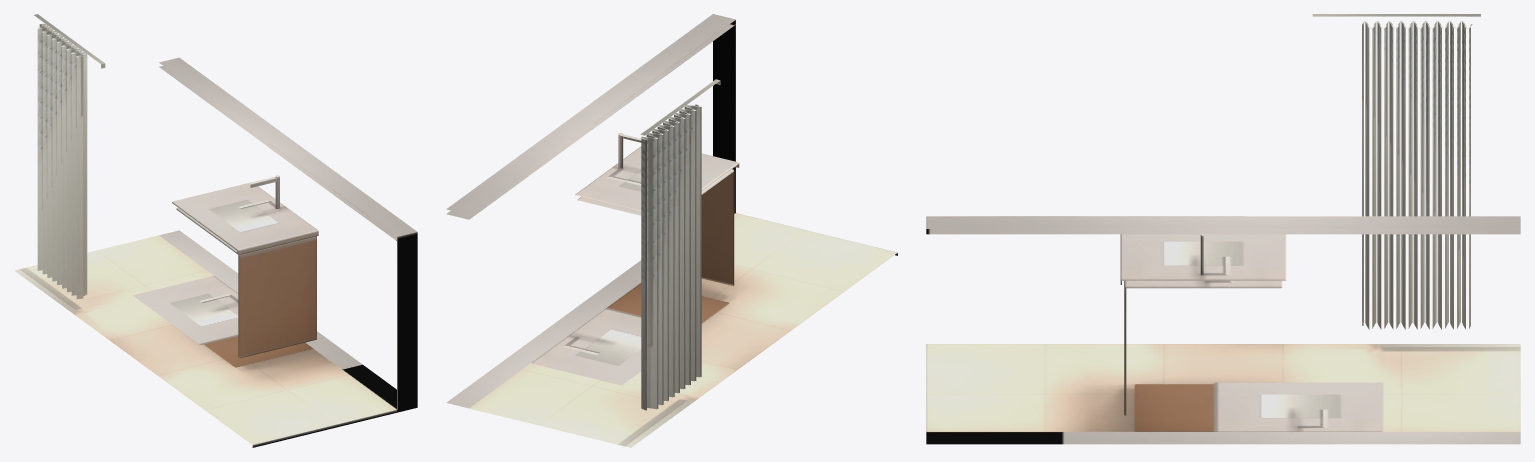
File: side-right.glb
3 views of the same model, side by side, from view 1: azimuth 30°, elevation 25°; view 2: azimuth 150°, elevation 25°; view 3: azimuth 270°, elevation 25° (orthographic). The views are drawn at different scales.
Parts seen in each view (by area): view 1: sideRight; view 2: sideRight; view 3: sideRight.
Boxes of the visible parts, bbox=[...] form: sideRight: bbox=[15, 14, 417, 447]; sideRight: bbox=[446, 14, 897, 447]; sideRight: bbox=[926, 14, 1520, 444].
Size of the model in its own units: 1.2 by 1.87 by 3.
1 material, 1 textured.
